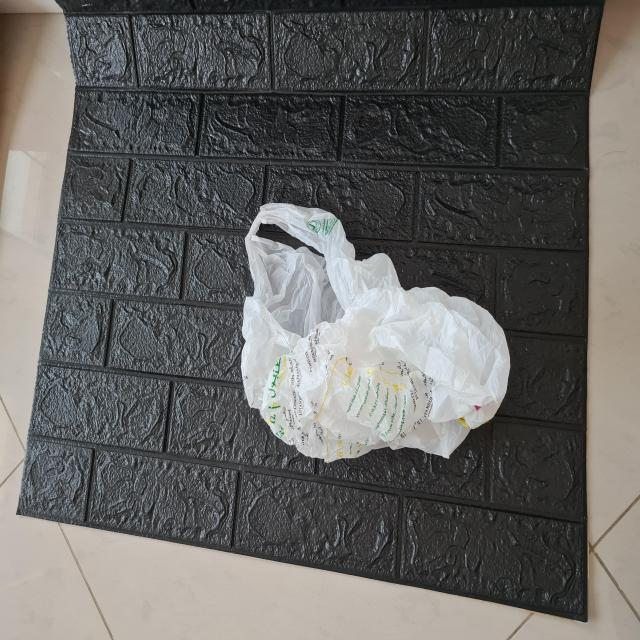plastic bag: (238, 199, 514, 466)
